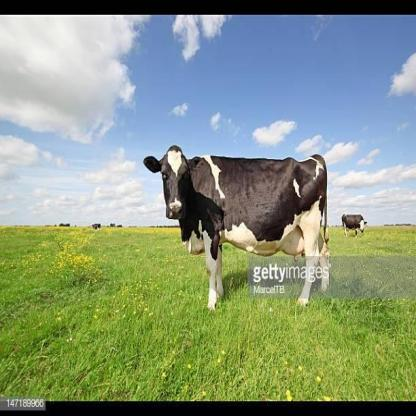cow: (144, 145, 328, 308), (342, 214, 366, 238)
